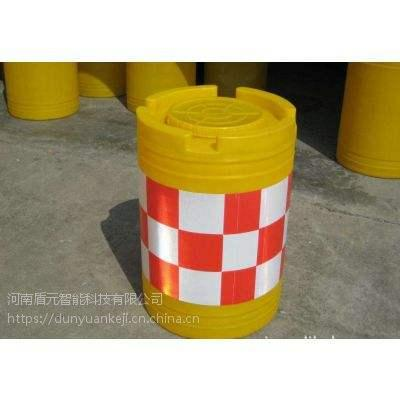sign: (129, 85, 298, 338)
